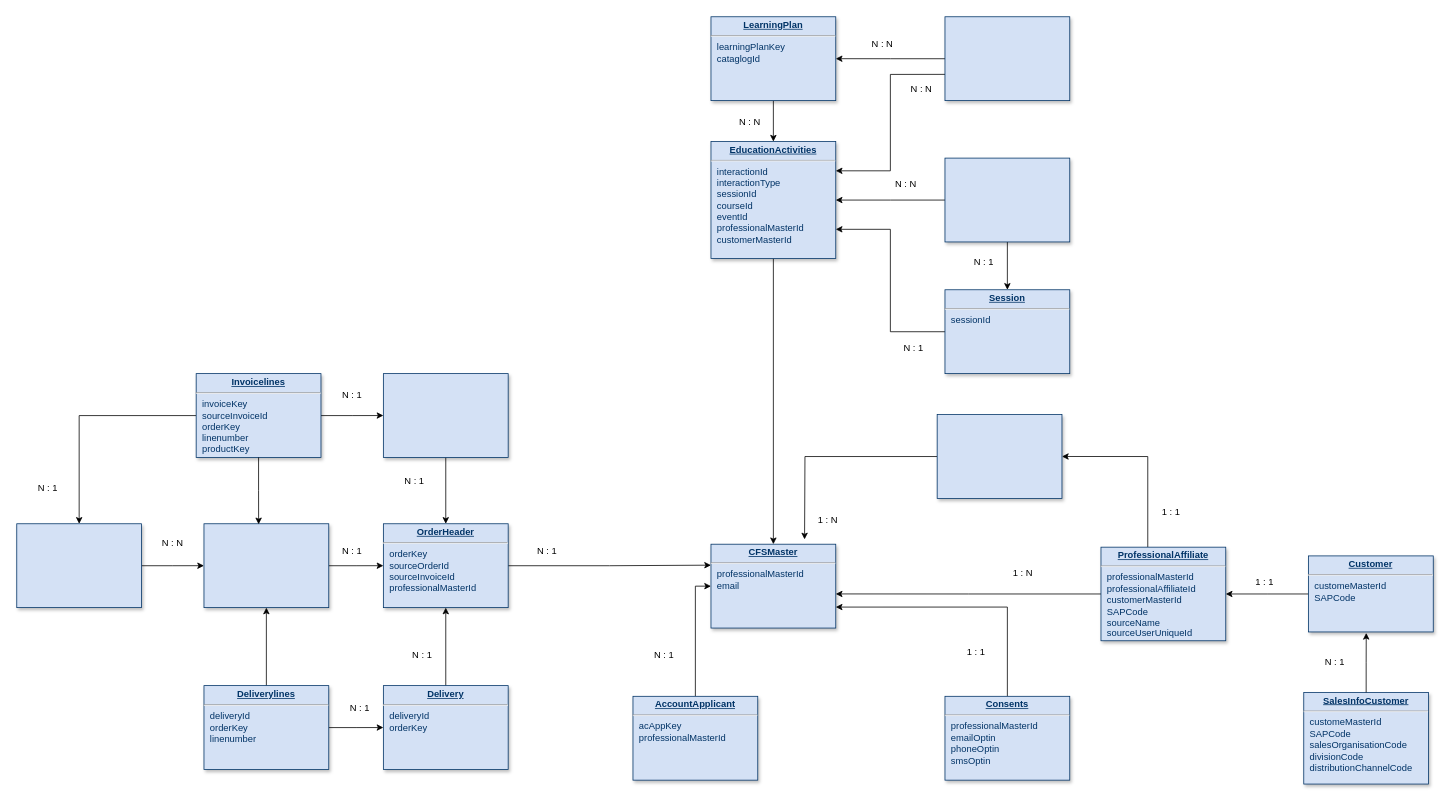
The diagram is 1452 pixels wide and 803 high, and some of its shapes have lost their labels. The centre of each missing label's shape, as x and y in pixels:
CFSVersion CFSVersionKey sourceName sourceUserUniqueId email: point 1000,457
Course courseId courseUniqueId catalogId: point 1007,59
Events eventKey sessionId courseId: point 1007,200
Invoice invoiceKey sourceInvoiceId: point 446,416
Orderlines orderKey sourceProductId brand: point 266,566
Product productKey sourceProductId brand: point 79,566
